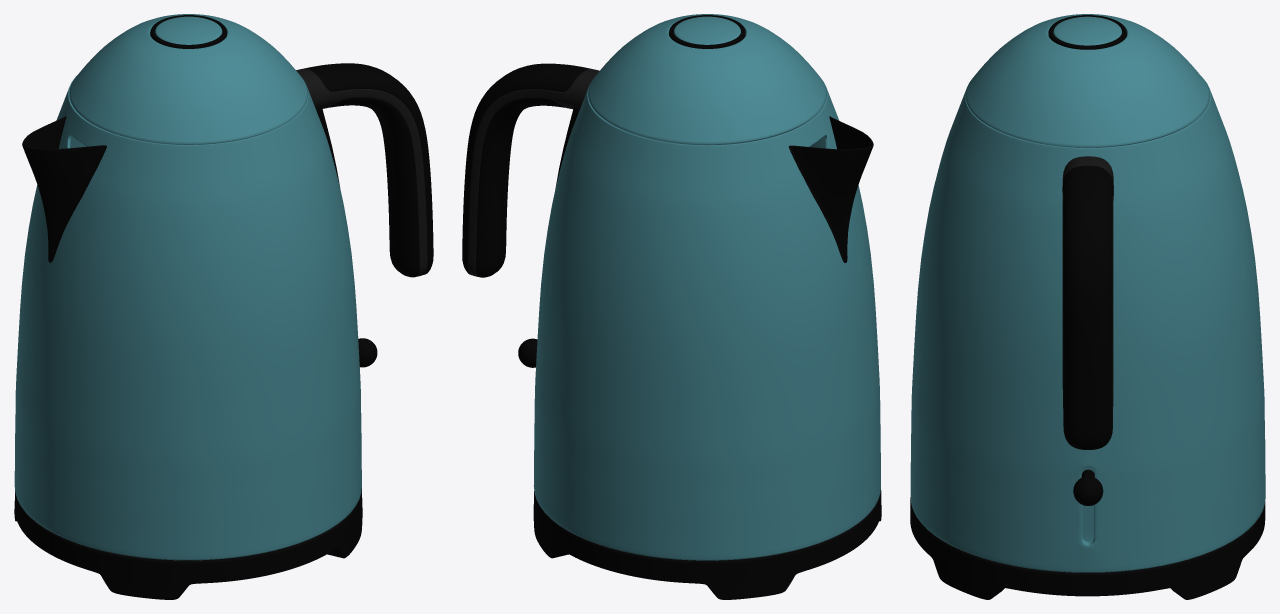
The model's file is models_116_09_fbx_electric_kettle.fbx.
3 renders of one model, left to right at view 1: azimuth 30°, elevation 25°; view 2: azimuth 150°, elevation 25°; view 3: azimuth 270°, elevation 25°, orthographic. The views are drawn at different scales.
Visible parts, largest first — view 1: cgaxis_moels_116_09_03_01, cgaxis_moels_116_09_03_02, cgaxis_moels_116_09_02_01, cgaxis_moels_116_09_01_03, cgaxis_moels_116_09_01_01, cgaxis_moels_116_09_01_02, cgaxis_moels_116_09_04_01, cgaxis_moels_116_09_01_05; view 2: cgaxis_moels_116_09_03_01, cgaxis_moels_116_09_03_02, cgaxis_moels_116_09_02_01, cgaxis_moels_116_09_01_03, cgaxis_moels_116_09_01_01, cgaxis_moels_116_09_01_02, cgaxis_moels_116_09_04_01, cgaxis_moels_116_09_01_05; view 3: cgaxis_moels_116_09_03_01, cgaxis_moels_116_09_03_02, cgaxis_moels_116_09_01_02, cgaxis_moels_116_09_02_01, cgaxis_moels_116_09_01_05 (×2), cgaxis_moels_116_09_04_01, cgaxis_moels_116_09_01_04.
Part boxes in pixels (x1=…): cgaxis_moels_116_09_03_01: x1=14, y1=76, x2=361, y2=560; cgaxis_moels_116_09_03_02: x1=69, y1=14, x2=308, y2=144; cgaxis_moels_116_09_02_01: x1=14, y1=488, x2=362, y2=599; cgaxis_moels_116_09_01_03: x1=329, y1=97, x2=419, y2=277; cgaxis_moels_116_09_01_01: x1=22, y1=116, x2=106, y2=262; cgaxis_moels_116_09_01_02: x1=306, y1=63, x2=433, y2=274; cgaxis_moels_116_09_04_01: x1=296, y1=68, x2=427, y2=276; cgaxis_moels_116_09_01_05: x1=150, y1=15, x2=226, y2=48; cgaxis_moels_116_09_03_01: x1=533, y1=85, x2=880, y2=560; cgaxis_moels_116_09_03_02: x1=588, y1=14, x2=826, y2=144; cgaxis_moels_116_09_02_01: x1=533, y1=489, x2=881, y2=599; cgaxis_moels_116_09_01_03: x1=476, y1=98, x2=565, y2=277; cgaxis_moels_116_09_01_01: x1=788, y1=116, x2=873, y2=262; cgaxis_moels_116_09_01_02: x1=462, y1=63, x2=589, y2=274; cgaxis_moels_116_09_04_01: x1=468, y1=68, x2=599, y2=276; cgaxis_moels_116_09_01_05: x1=669, y1=15, x2=745, y2=48; cgaxis_moels_116_09_03_01: x1=910, y1=76, x2=1265, y2=572; cgaxis_moels_116_09_03_02: x1=965, y1=14, x2=1209, y2=147; cgaxis_moels_116_09_01_02: x1=1063, y1=165, x2=1113, y2=449; cgaxis_moels_116_09_02_01: x1=910, y1=497, x2=1265, y2=599; cgaxis_moels_116_09_01_05 (×2): x1=1048, y1=15, x2=1126, y2=505; cgaxis_moels_116_09_04_01: x1=1062, y1=156, x2=1113, y2=436; cgaxis_moels_116_09_01_04: x1=1062, y1=199, x2=1113, y2=408.
Size of the model in its own units: 8.66 by 10.23 by 6.43.
